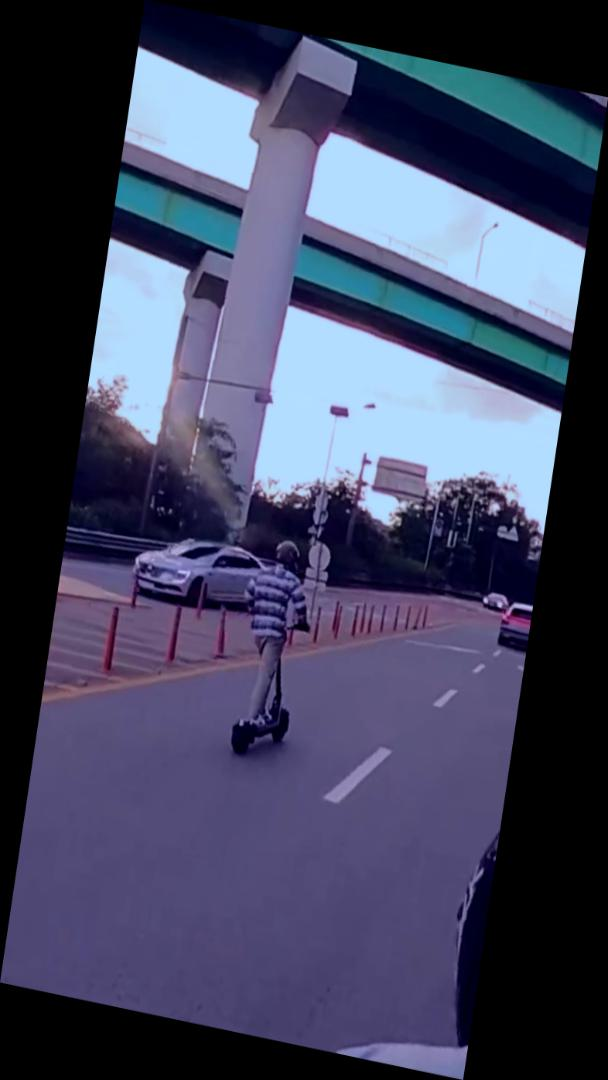helmet: (220, 529, 324, 768)
